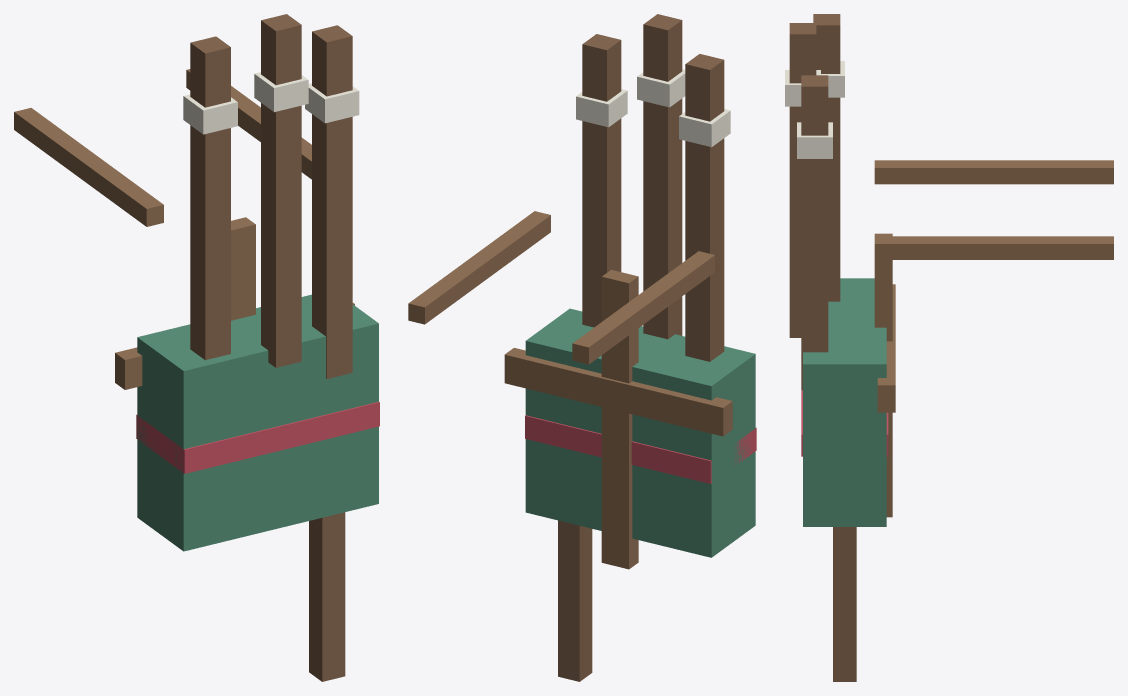
File: gaita_de_fole.glb
3 views of the same model, side by side, from view 1: azimuth 30°, elevation 25°; view 2: azimuth 150°, elevation 25°; view 3: azimuth 270°, elevation 25° (orthographic). The views are drawn at different scales.
Visible parts, largest first — view 1: gaita_de_fole; view 2: gaita_de_fole; view 3: gaita_de_fole.
Part boxes in pixels (x1=…): gaita_de_fole: x1=14, y1=14, x2=379, y2=681; gaita_de_fole: x1=408, y1=14, x2=756, y2=681; gaita_de_fole: x1=785, y1=14, x2=1113, y2=681.
Bounding box in the file's own units: 0.4 × 1.14 × 0.55.
